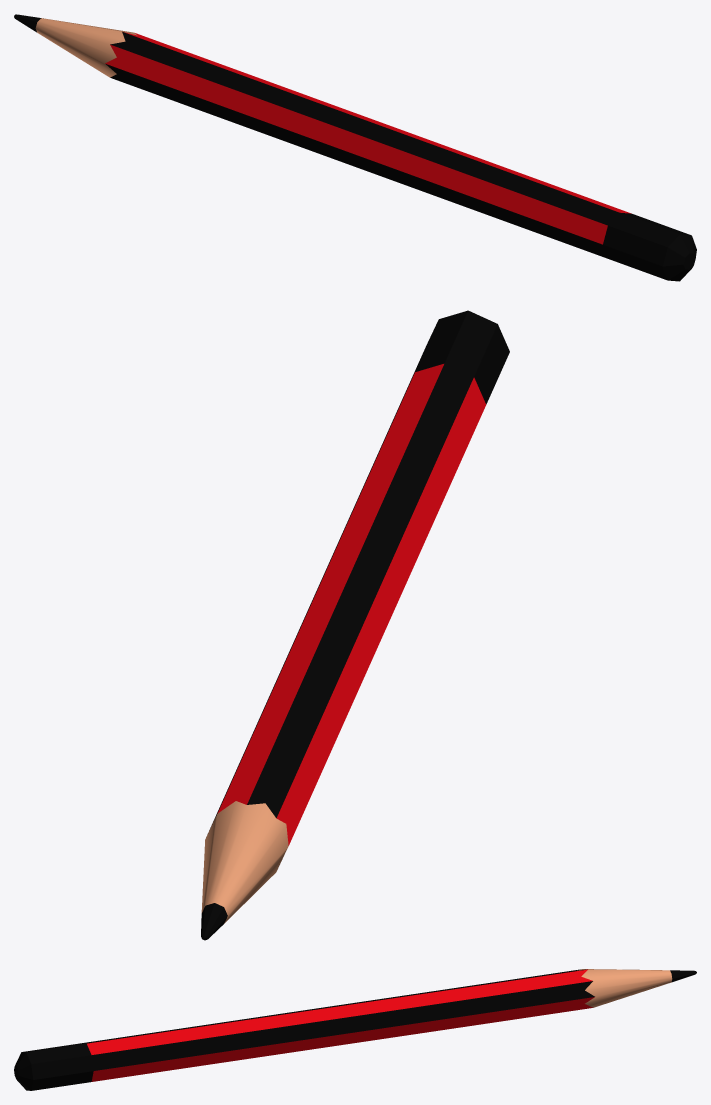
File: pencil.fbx
3 views of the same model, one above another, from view 1: azimuth 30°, elevation 25°; view 2: azimuth 150°, elevation 25°; view 3: azimuth 270°, elevation 25° (orthographic). The views are drawn at different scales.
Parts seen in each view (by area): view 1: Cylinder; view 2: Cylinder; view 3: Cylinder.
Boxes of the visible parts, box(x1,y1,x2,y2) form: Cylinder: box(14, 14, 696, 281); Cylinder: box(201, 310, 509, 940); Cylinder: box(14, 969, 696, 1090).
Size of the model in its own units: 68.5 by 11.22 by 183.
